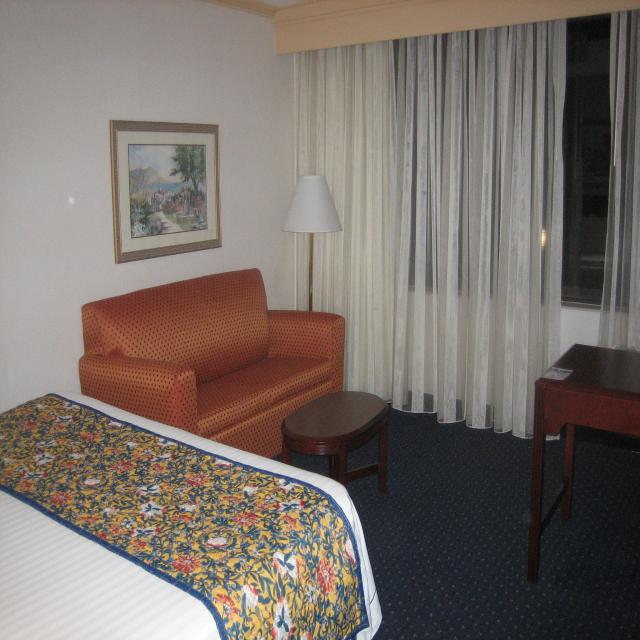bed stand: (2, 395, 369, 639)
coffee table: (281, 392, 391, 492)
cover: (0, 503, 217, 638)
drape: (288, 20, 566, 440), (595, 9, 640, 349)
lampshade: (284, 173, 343, 237)
painting crop: (111, 119, 223, 265)
sofa bed: (81, 263, 345, 506)
table -X: (528, 342, 640, 585)
